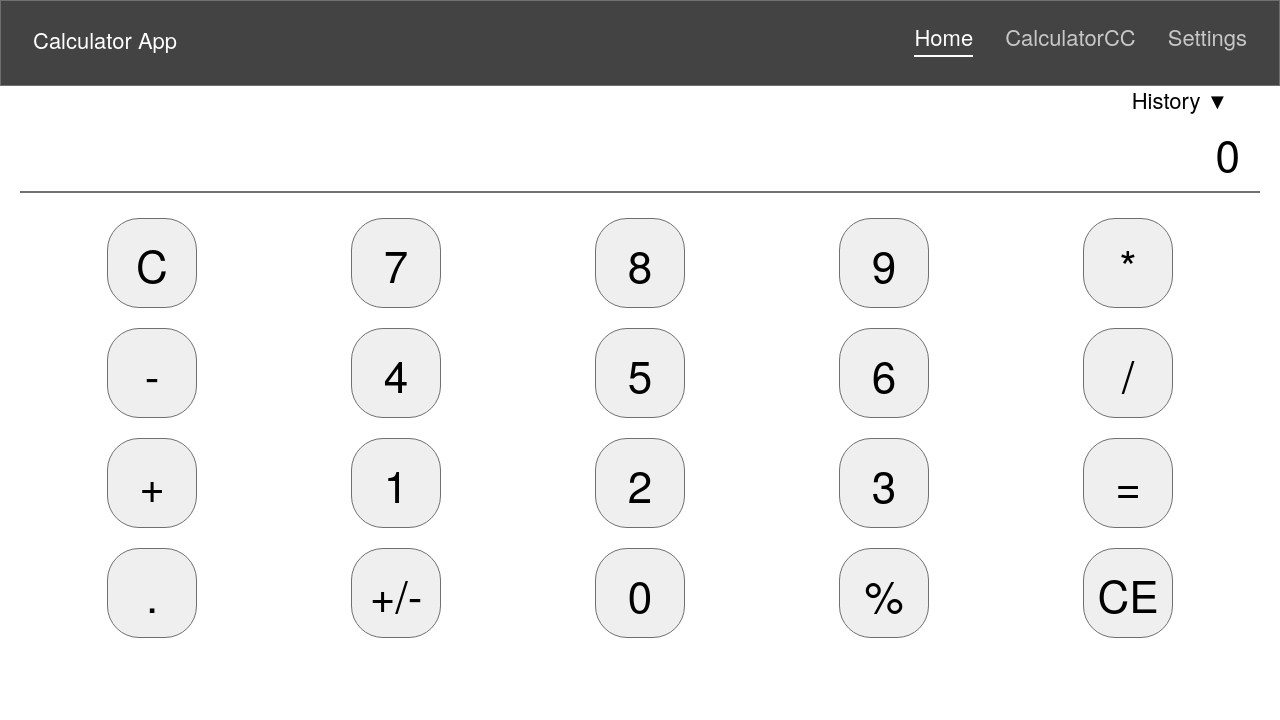
Scenario: App tests › display check
The width and height of the screenshot is (1280, 720).
Click the button with test id "1". click: coordinates (396, 483)
box: [351,438,441,528]
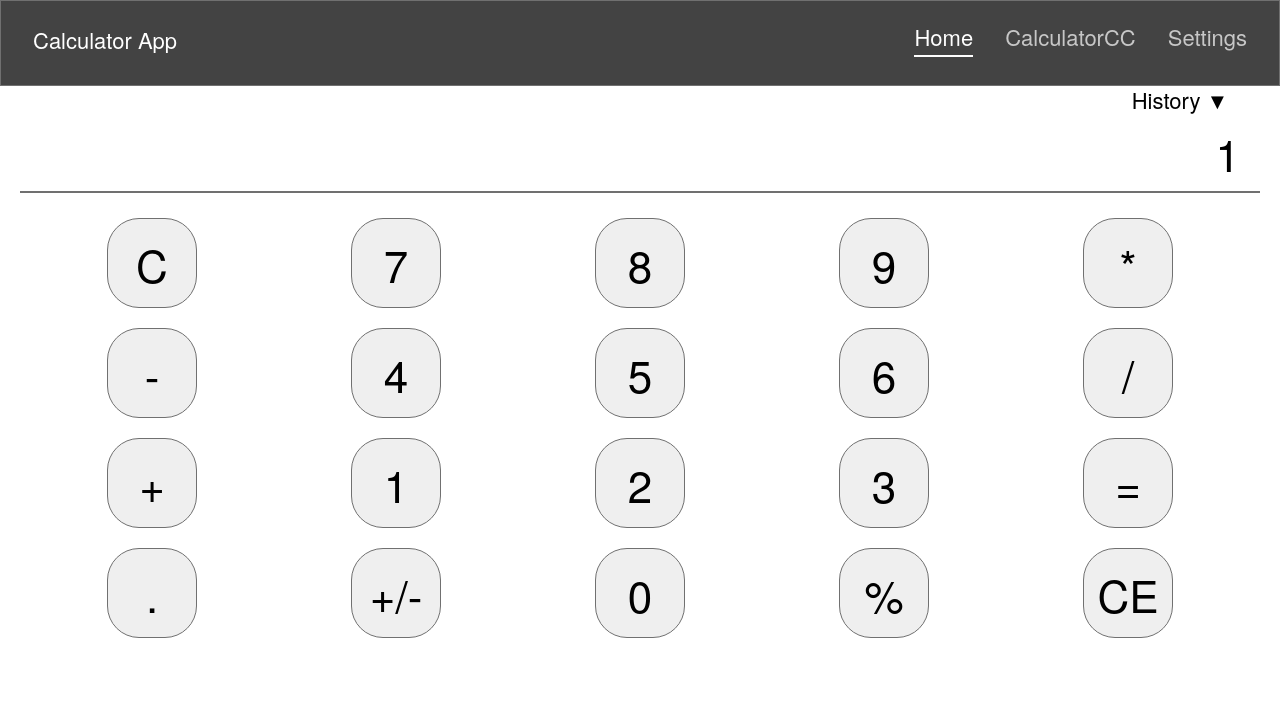
Click the button with test id "2". click: coordinates (640, 483)
box: [595,438,685,528]
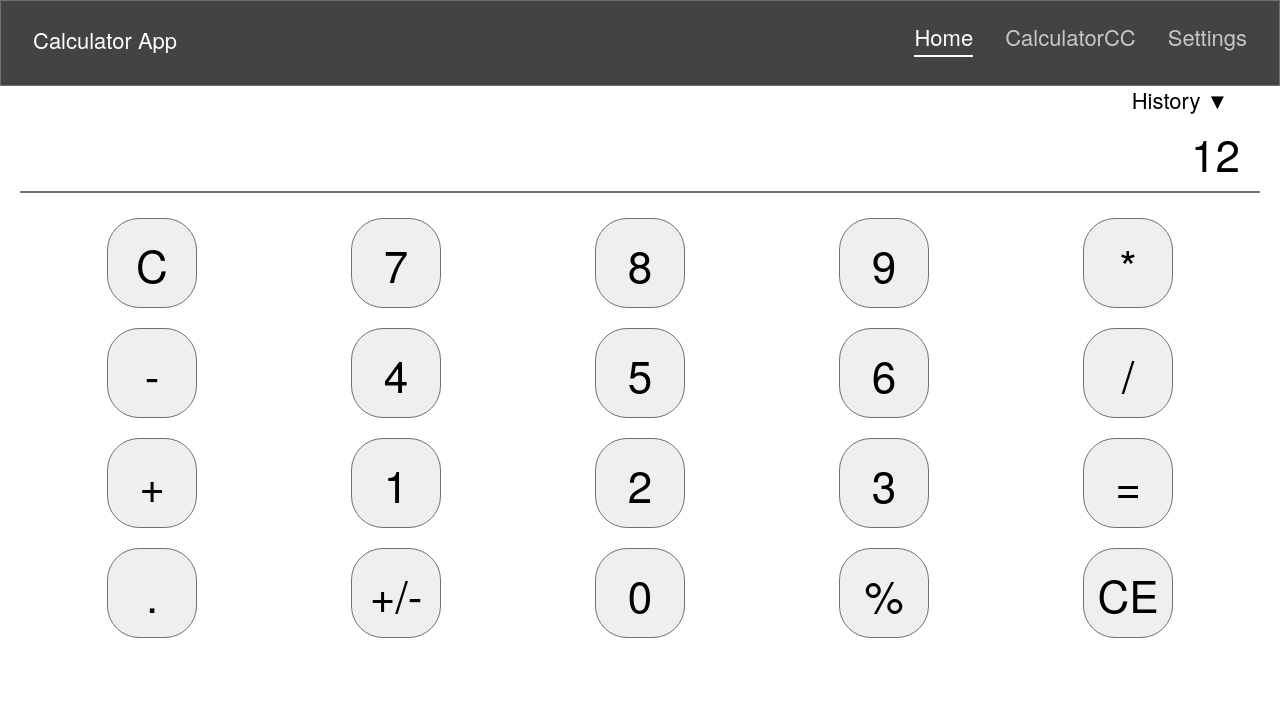
Click the button with test id "3". click: coordinates (884, 483)
box: [839,438,929,528]
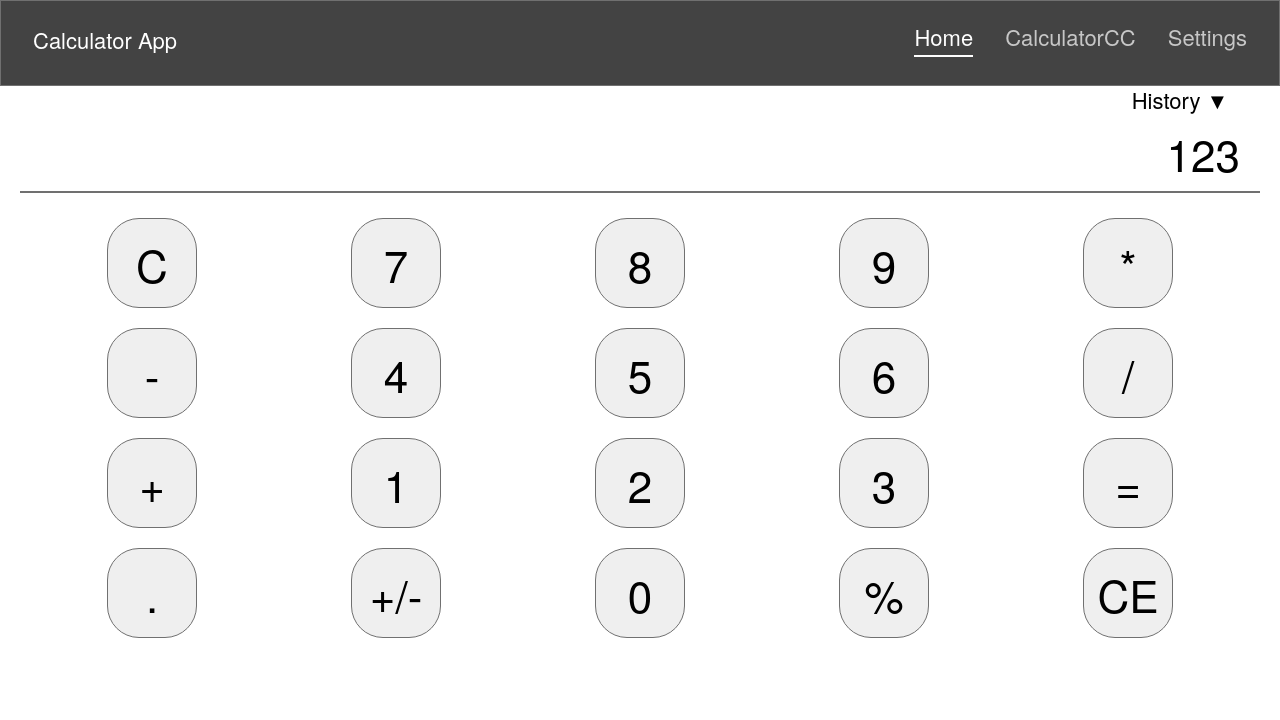
Click the button with test id "4". click: coordinates (396, 373)
box: [351,328,441,418]
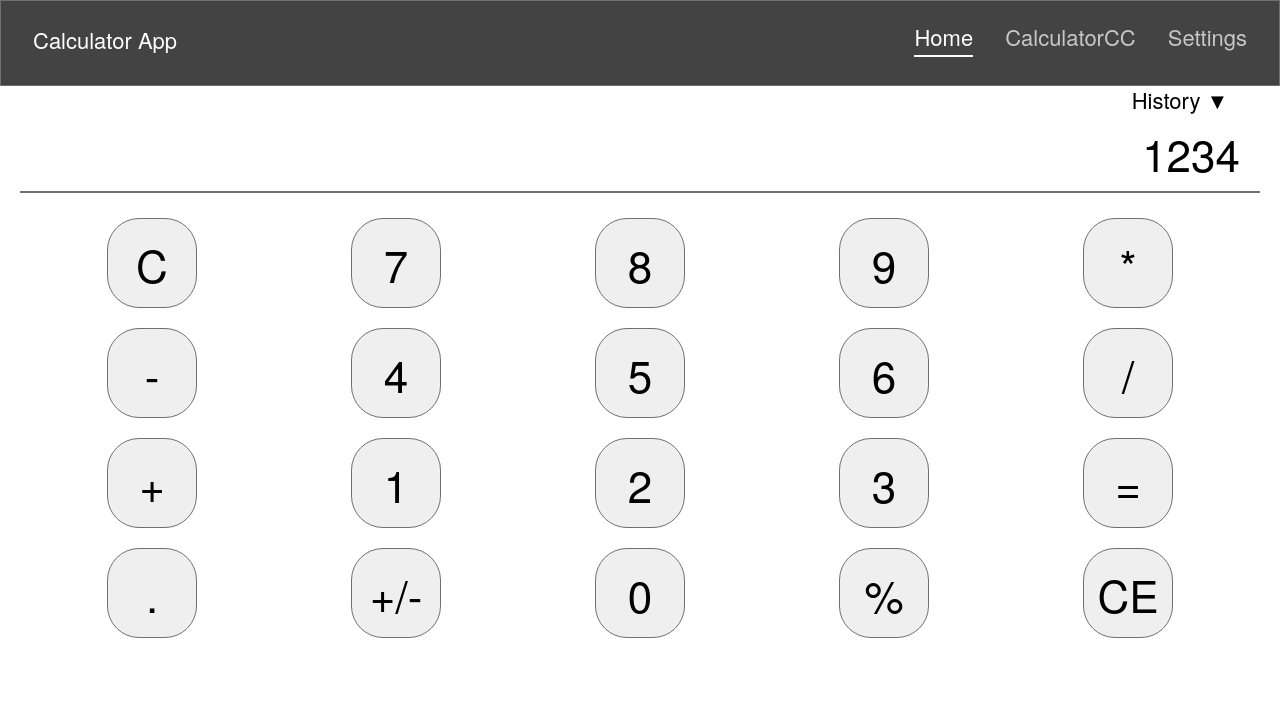
Click the button with test id "5". click: coordinates (640, 373)
box: [595,328,685,418]
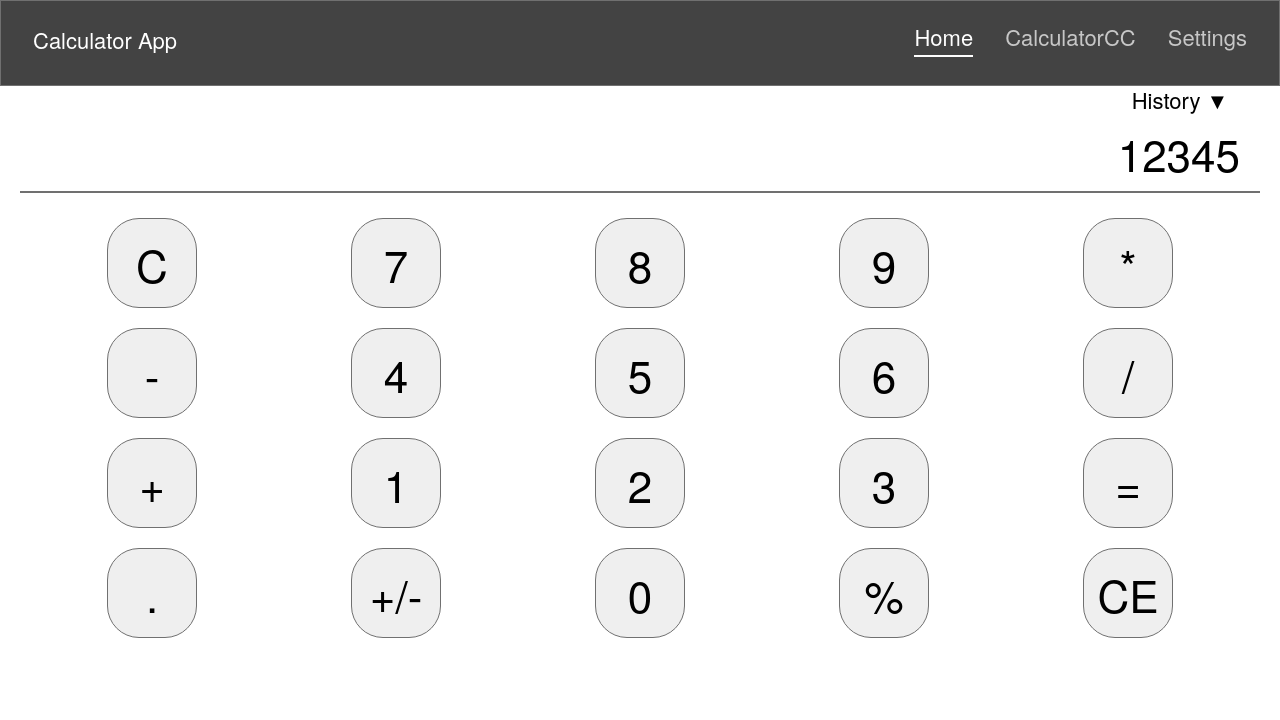
Expected: the heading with test id "display" reads "12345", [20,114,1260,193]
